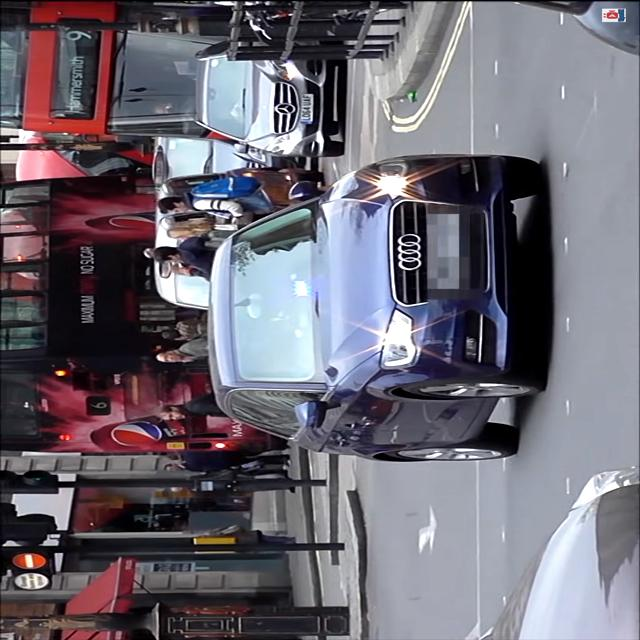emergency-vehicles: (196, 140, 566, 482)
